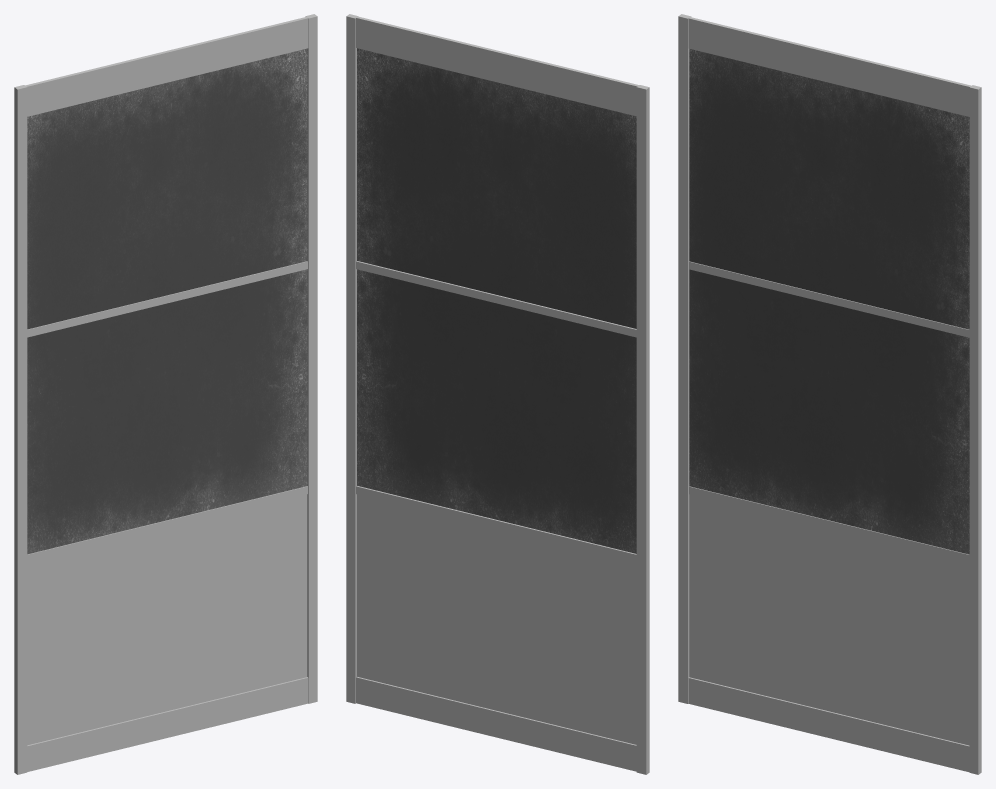
The model's file is shop_dagasi_door1.fbx.
The picture shows the model from 3 angles, left to right: view 1: azimuth 30°, elevation 25°; view 2: azimuth 150°, elevation 25°; view 3: azimuth 330°, elevation 25°; orthographic projection.
Visible parts, largest first — view 1: shop_dagasi_door1; view 2: shop_dagasi_door1; view 3: shop_dagasi_door1.
Boxes of the visible parts, bbox=[...] form: shop_dagasi_door1: bbox=[14, 14, 317, 774]; shop_dagasi_door1: bbox=[346, 14, 649, 774]; shop_dagasi_door1: bbox=[678, 14, 981, 774].
Size of the model in its own units: 1.16 by 2.52 by 0.0215.
